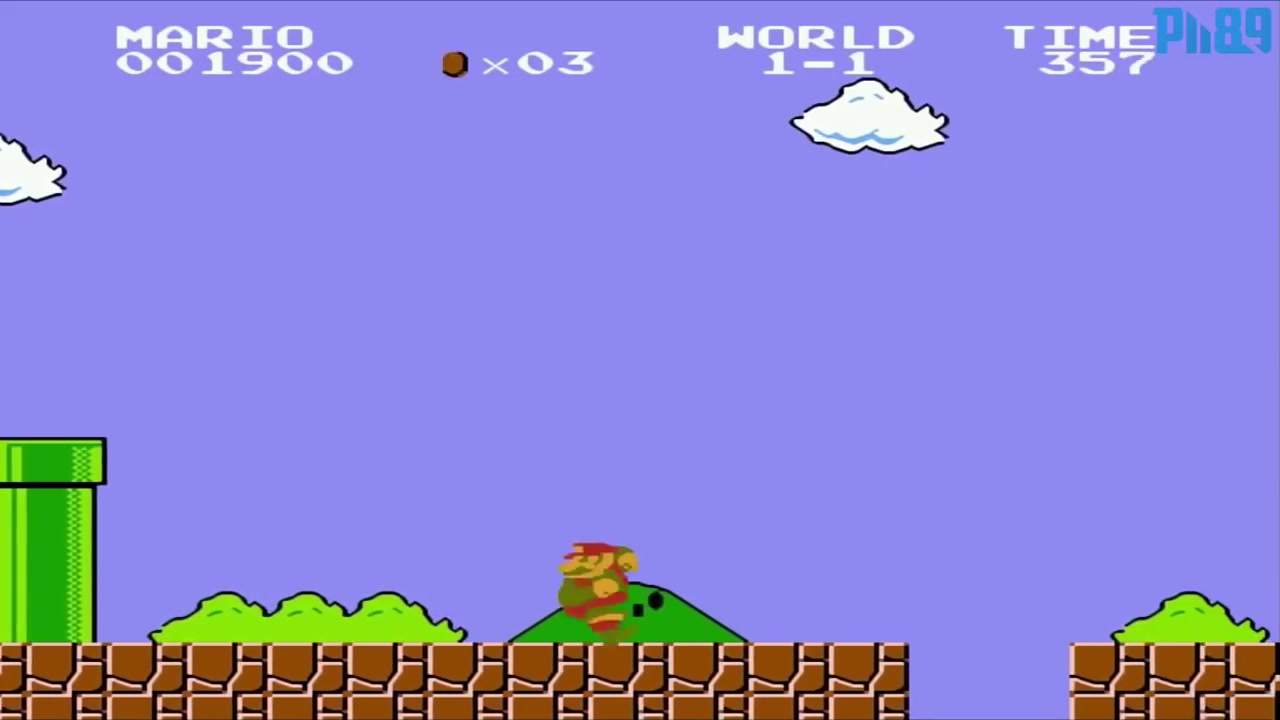mario: (546, 534, 645, 642)
